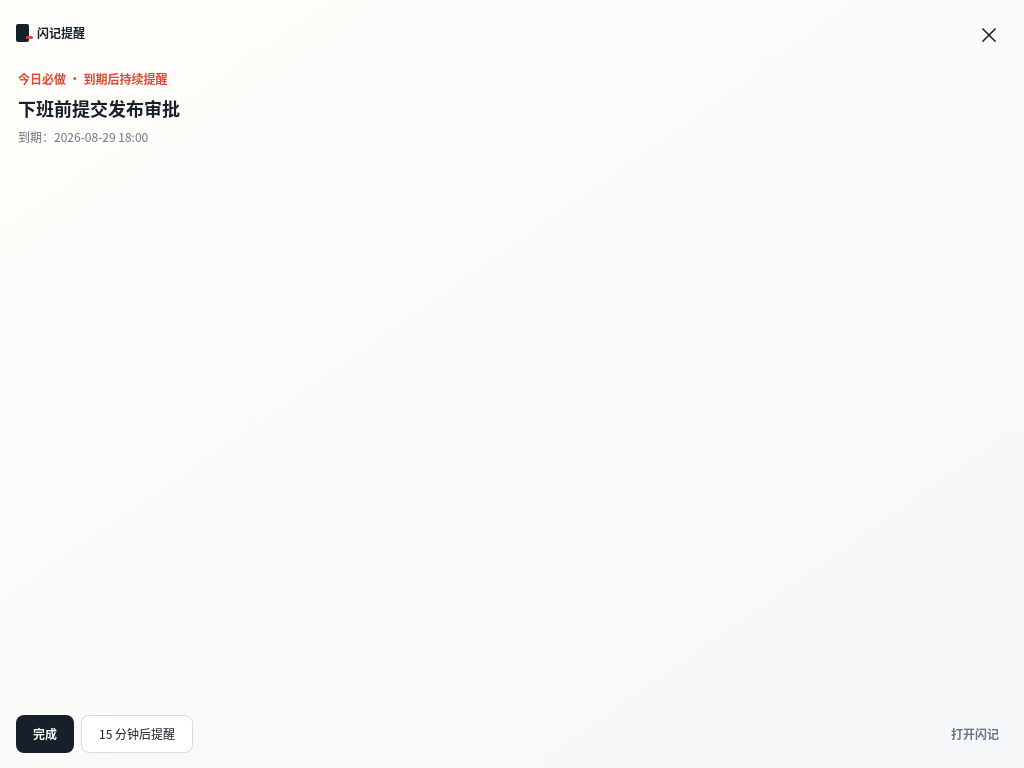
Scenario: ReminderView › keeps the reminder and close action when hiding fails
Check: the heading "下班前提交发布审批" is shown, box [18,95,180,121]
Click the button named "关闭本次提醒窗". click: (989, 33)
box: [970,14,1008,52]
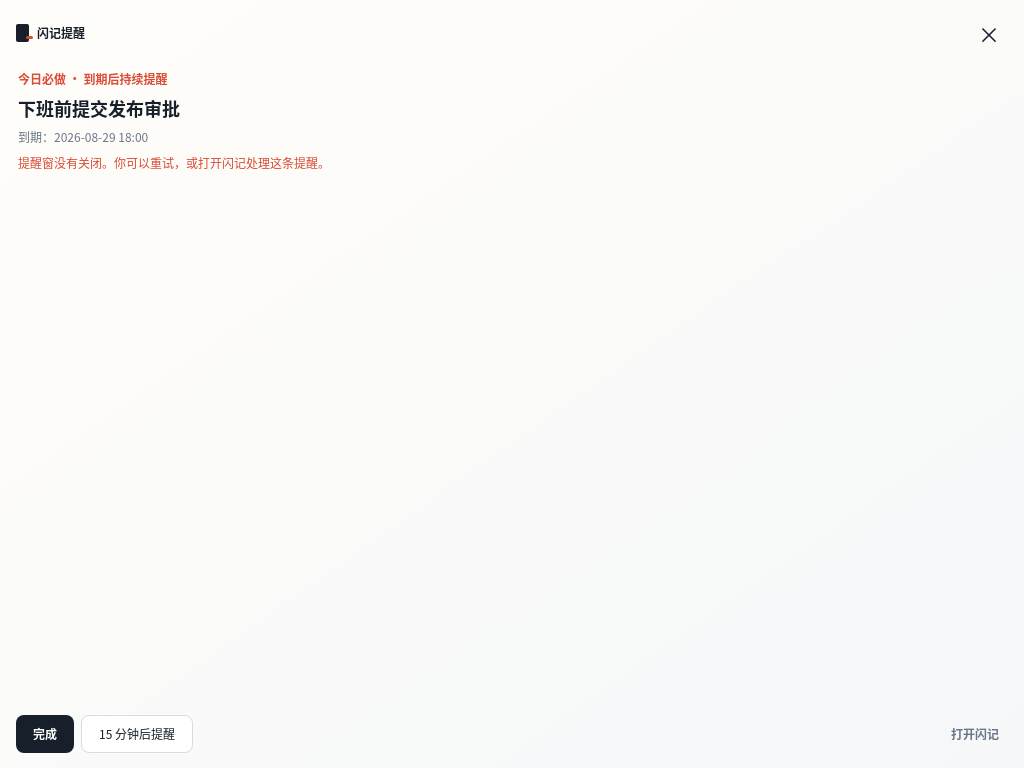
Check: the heading "下班前提交发布审批" is shown, box [18,95,180,121]
Check: the message shows "提醒窗没有关闭", box [18,154,330,172]
